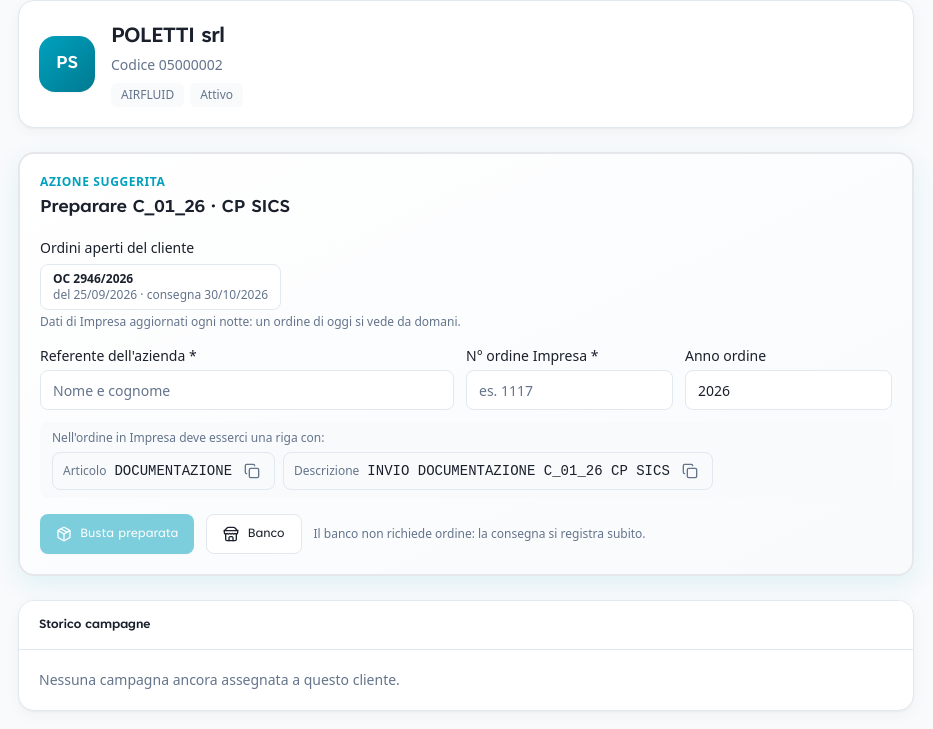
Scenario: scheda cliente con i dati di Impresa › gli ordini aperti compilano numero e anno con un clic
Step 1. Click the button "OC 2946/2026 del 25/09/2026 · consegna 30/10/2026" → (161, 287), box [40, 264, 281, 310]
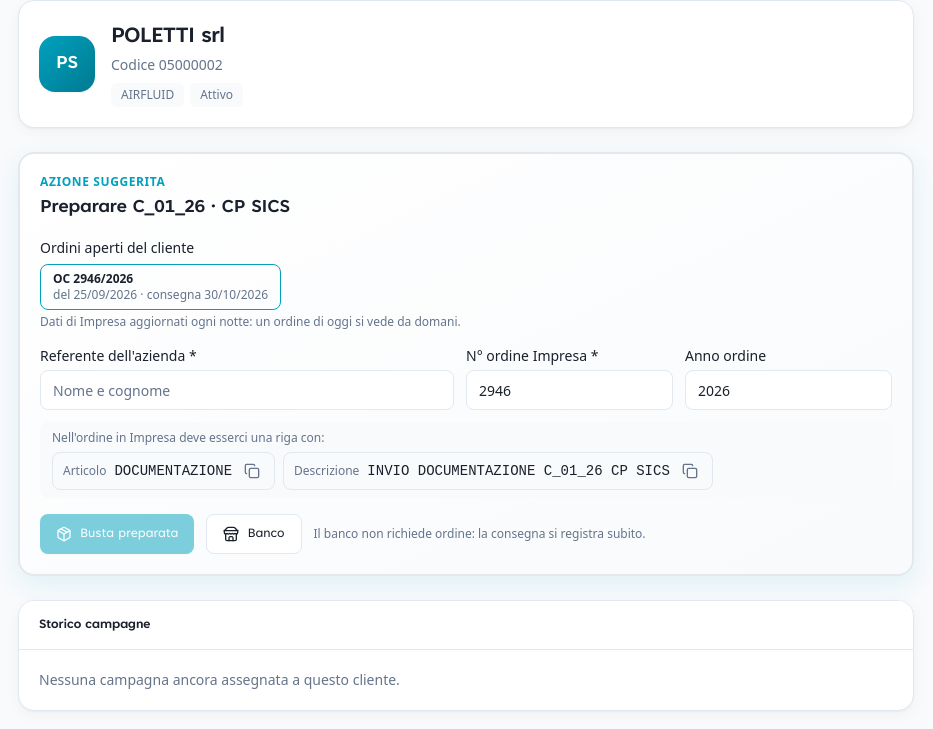
Now the field with placeholder "es. 1117" holds "2946", box [466, 370, 673, 410]
